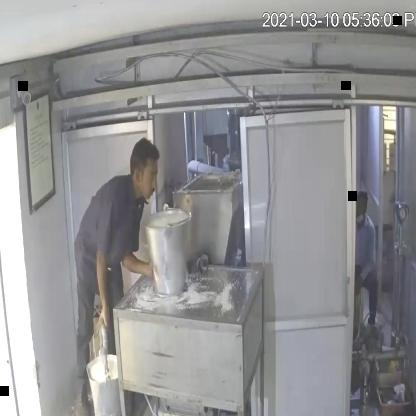no_glove: (113, 240, 164, 298), (93, 230, 118, 340)
